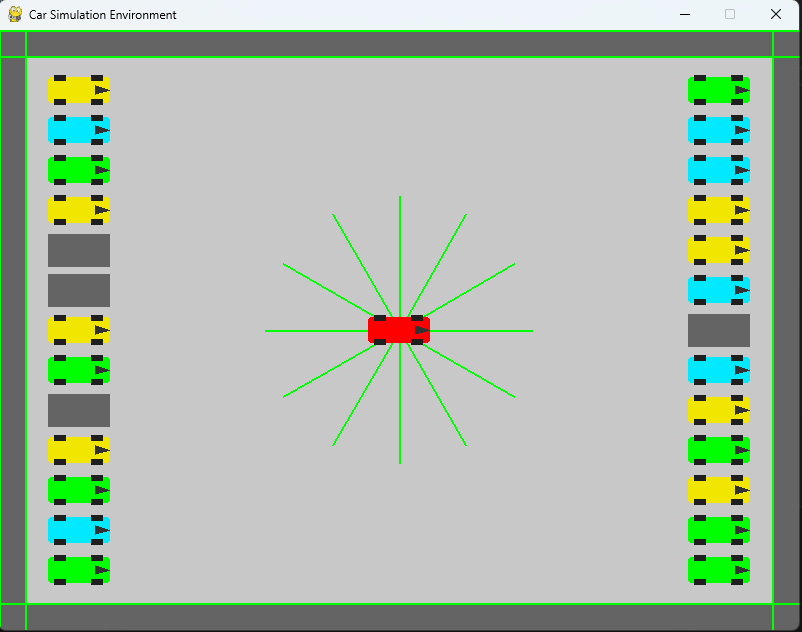ControlledCar: (360, 310, 442, 353)
ParkedCar: (46, 311, 115, 352), (44, 69, 114, 109), (683, 71, 756, 109), (41, 432, 112, 471), (45, 190, 116, 228), (44, 512, 113, 551), (42, 112, 118, 147), (682, 191, 755, 227), (686, 549, 755, 587), (686, 352, 753, 390), (43, 151, 115, 186), (686, 472, 754, 509), (44, 474, 115, 509), (683, 511, 752, 547), (685, 115, 754, 150), (680, 234, 750, 268), (42, 356, 116, 388), (685, 155, 758, 187), (685, 274, 751, 309), (685, 434, 755, 467), (45, 555, 118, 586), (686, 394, 754, 427)
ParkingSpot: (42, 231, 118, 271), (44, 272, 115, 309), (685, 313, 756, 350), (47, 391, 114, 430)
